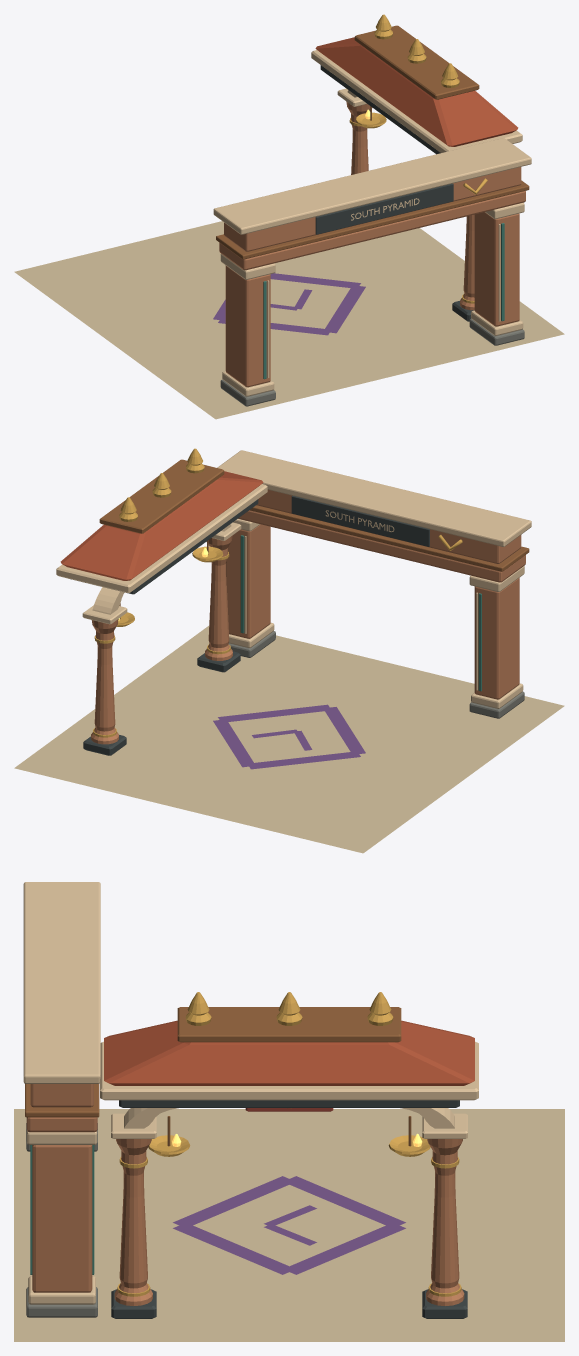
The model's file is room-temple_s.glb.
3 views of the same model, one above another, from view 1: azimuth 30°, elevation 25°; view 2: azimuth 150°, elevation 25°; view 3: azimuth 270°, elevation 25° (orthographic). The views are drawn at different scales.
Visible parts, largest first — view 1: Surveyed floor · room-temple_s, Shelter drip mould, South Temple · notched lintel · terracotta, Fold post, Fold post.001, Open passage transom, South Temple · notched lintel · bronze, Fold sign fascia, Destination tablet, Bronze lintel return, South Temple · notched lintel · limestone, South Temple · notched lintel · sandstone (+7 smaller); view 2: Surveyed floor · room-temple_s, Shelter drip mould, South Temple · notched lintel · terracotta, Fold post, South Temple · notched lintel · sandstone, Fold post.001, South Temple · notched lintel · limestone, South Temple · notched lintel · bronze, Open passage transom, Destination tablet.001, Fold sign fascia, Bronze lintel return (+5 smaller); view 3: Surveyed floor · room-temple_s, South Temple · notched lintel · terracotta, Shelter drip mould, Fold post.001, South Temple · notched lintel · limestone, South Temple · notched lintel · sandstone, South Temple · notched lintel · bronze, South Temple · notched lintel · basalt, South Temple · notched lintel · brass, Fold sign fascia, Open passage transom, Bronze lintel return (+3 smaller).
Part boxes in pixels (box(x1,y1,x2,y2)): Surveyed floor · room-temple_s: box(14, 221, 564, 419); Shelter drip mould: box(213, 138, 531, 234); South Temple · notched lintel · terracotta: box(315, 37, 518, 146); Fold post: box(225, 265, 270, 387); Fold post.001: box(474, 212, 519, 326); Open passage transom: box(219, 191, 525, 270); South Temple · notched lintel · bronze: box(354, 25, 479, 120); Fold sign fascia: box(224, 167, 521, 251); Destination tablet: box(315, 183, 453, 234); Bronze lintel return: box(216, 180, 529, 259); South Temple · notched lintel · limestone: box(311, 50, 522, 152); South Temple · notched lintel · sandstone: box(346, 101, 474, 310); Surveyed floor · room-temple_s: box(14, 625, 564, 853); Shelter drip mould: box(217, 450, 531, 546); South Temple · notched lintel · terracotta: box(60, 471, 263, 580); Fold post: box(474, 578, 519, 699); South Temple · notched lintel · sandstone: box(91, 535, 232, 744); Fold post.001: box(226, 524, 270, 638); South Temple · notched lintel · limestone: box(56, 484, 267, 624); South Temple · notched lintel · bronze: box(99, 459, 224, 618); Open passage transom: box(238, 510, 525, 582); Destination tablet.001: box(291, 495, 429, 546); Fold sign fascia: box(256, 489, 521, 563); Bronze lintel return: box(249, 505, 529, 571); Surveyed floor · room-temple_s: box(14, 1109, 564, 1341); South Temple · notched lintel · terracotta: box(104, 1020, 474, 1085); Shelter drip mould: box(23, 882, 100, 1083); Fold post.001: box(32, 1145, 92, 1292); South Temple · notched lintel · limestone: box(100, 1041, 478, 1138); South Temple · notched lintel · sandstone: box(114, 1139, 464, 1305); South Temple · notched lintel · bronze: box(167, 1007, 411, 1146); South Temple · notched lintel · basalt: box(111, 1100, 467, 1318); South Temple · notched lintel · brass: box(117, 992, 461, 1296); Fold sign fascia: box(30, 1084, 93, 1107); Open passage transom: box(26, 1117, 97, 1132); Bronze lintel return: box(25, 1084, 99, 1117).
Bounding box in the file's own units: 8 × 5.09 × 8.
